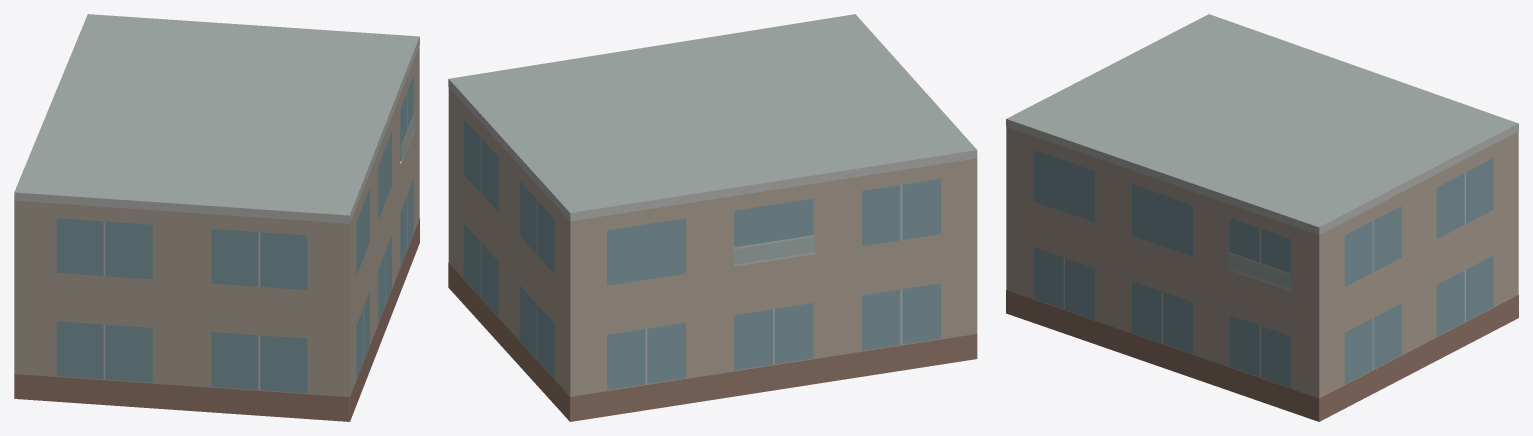
Rendered from survey-upis-32968249.glb.
The picture shows the model from 3 angles, left to right: view 1: azimuth 30°, elevation 25°; view 2: azimuth 150°, elevation 25°; view 3: azimuth 270°, elevation 25°; orthographic projection. The views are drawn at different scales.
Visible parts, largest first — view 1: survey-upis-32968249.tmp; view 2: survey-upis-32968249.tmp; view 3: survey-upis-32968249.tmp.
Boxes of the visible parts, x1,y1,x2,y2 form: survey-upis-32968249.tmp: (14,14,419,421); survey-upis-32968249.tmp: (448,14,977,421); survey-upis-32968249.tmp: (1006,14,1518,421).
Bounding box in the file's own units: 14.37 × 6.1 × 14.58.
